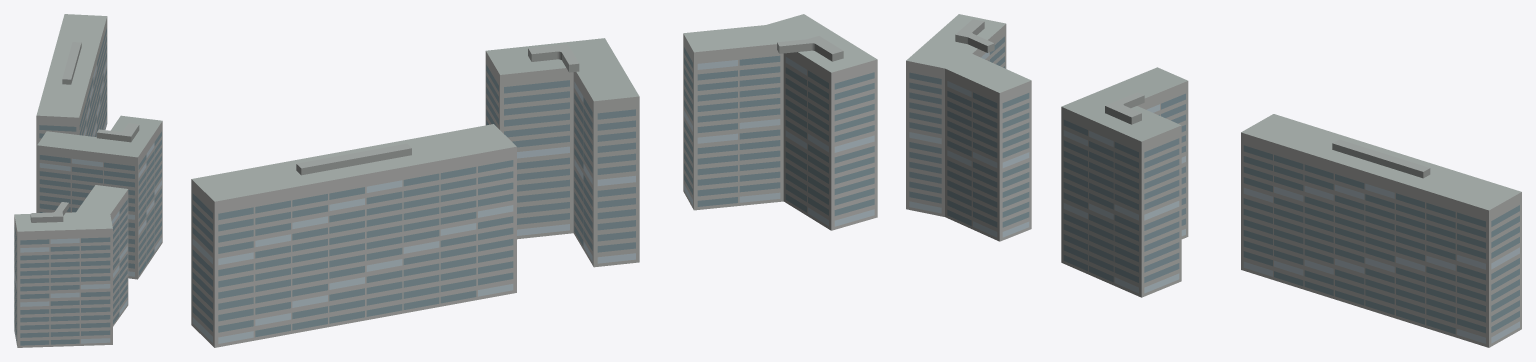
File: apt-a12287203.glb
3 renders of one model, left to right at view 1: azimuth 30°, elevation 25°; view 2: azimuth 150°, elevation 25°; view 3: azimuth 270°, elevation 25°, orthographic. The views are drawn at different scales.
Visible parts, largest first — view 1: apt-a12287203; view 2: apt-a12287203; view 3: apt-a12287203.
Part boxes in pixels (x1,y1,x2,y2): apt-a12287203: (14, 14, 162, 347); apt-a12287203: (191, 14, 877, 347); apt-a12287203: (906, 14, 1521, 347).
Size of the model in its own units: 102 by 42 by 143.
